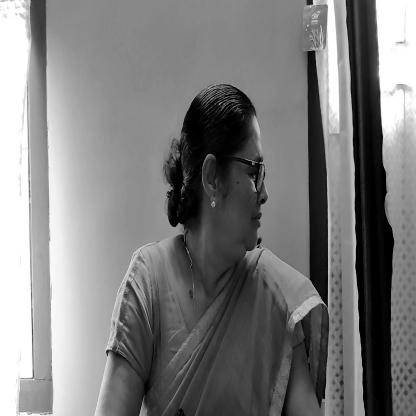Distracted: (180, 91, 278, 271)
